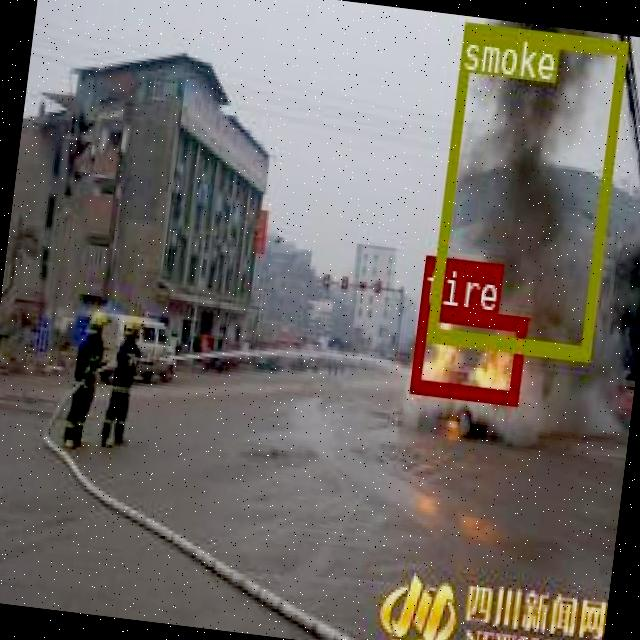fire: (408, 301, 526, 401)
smoke: (424, 21, 626, 360)
